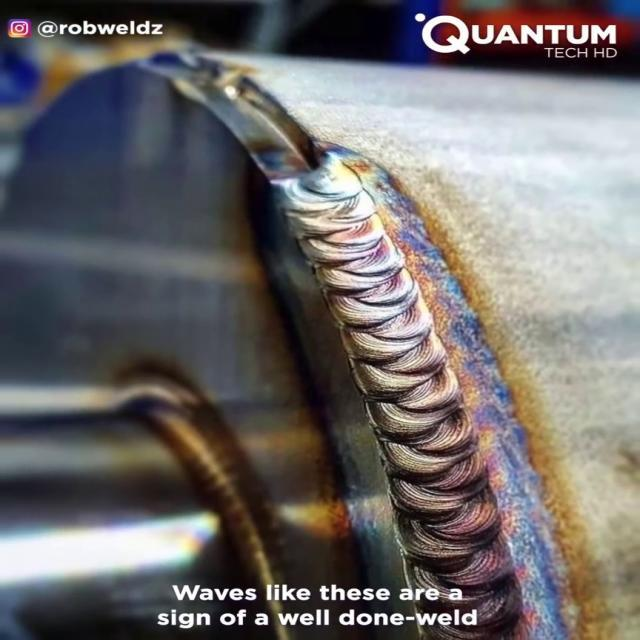Good Weld: (260, 154, 528, 578)
